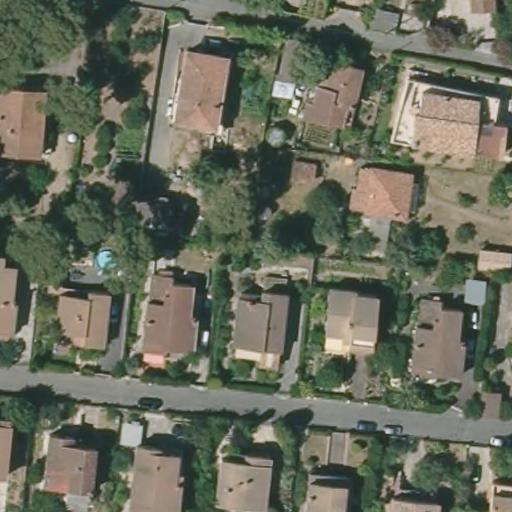pool: (94, 245, 118, 278)
